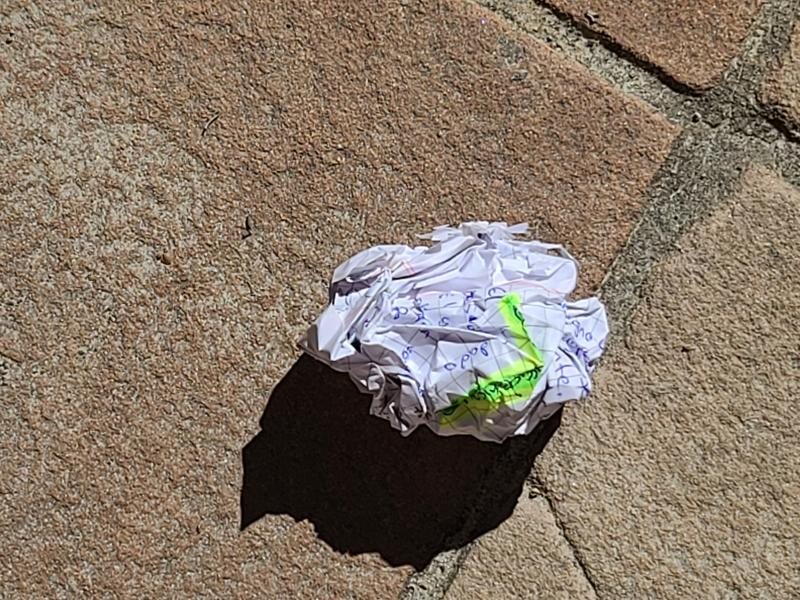papel: (301, 223, 610, 447)
